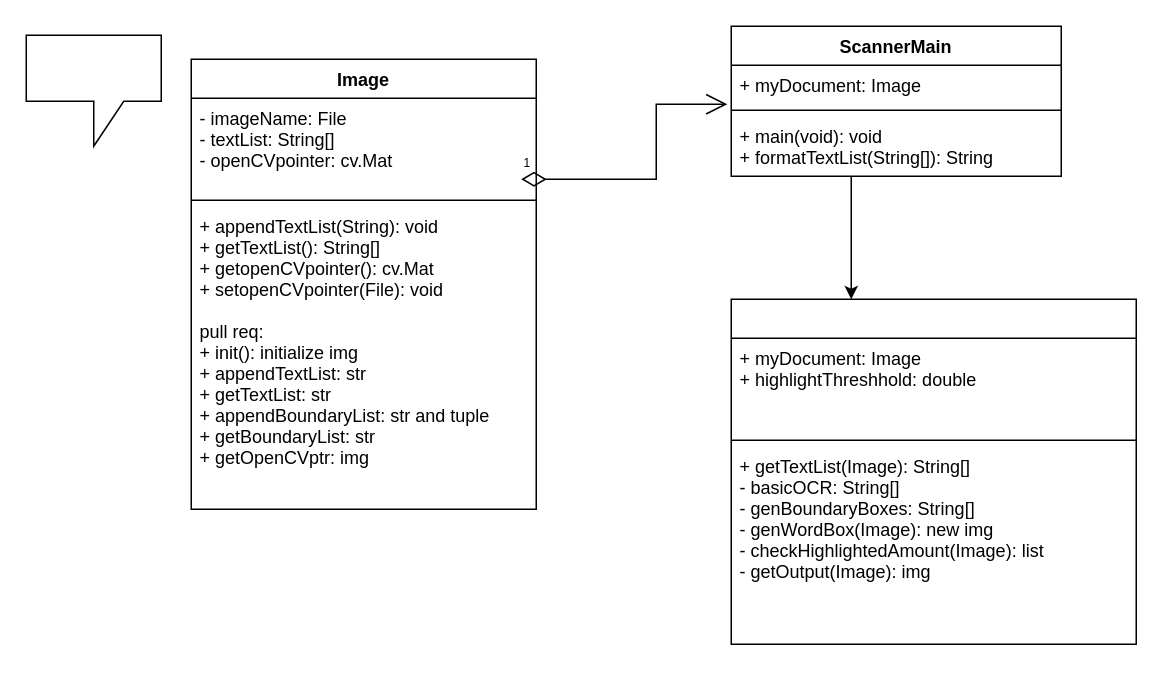
Some shapes in this 1163 by 675 pixel diagram are drawn without their labels. The shapes that lost their labels are listed below. From the top down, each one's box as (x1, y1, x2, y2) in pixels, then its label:
(25, 34, 161, 146): Pytessaract has support for images represented in an openCV object
(730, 298, 1136, 644): ScannerWorkerThread
